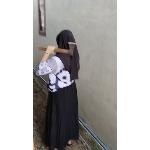Kapak: (34, 40, 78, 57)
